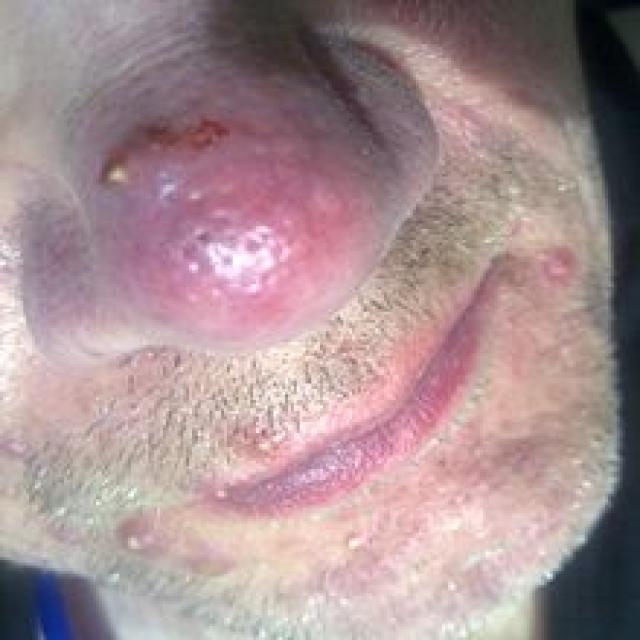Rosacea: (7, 45, 416, 351)
